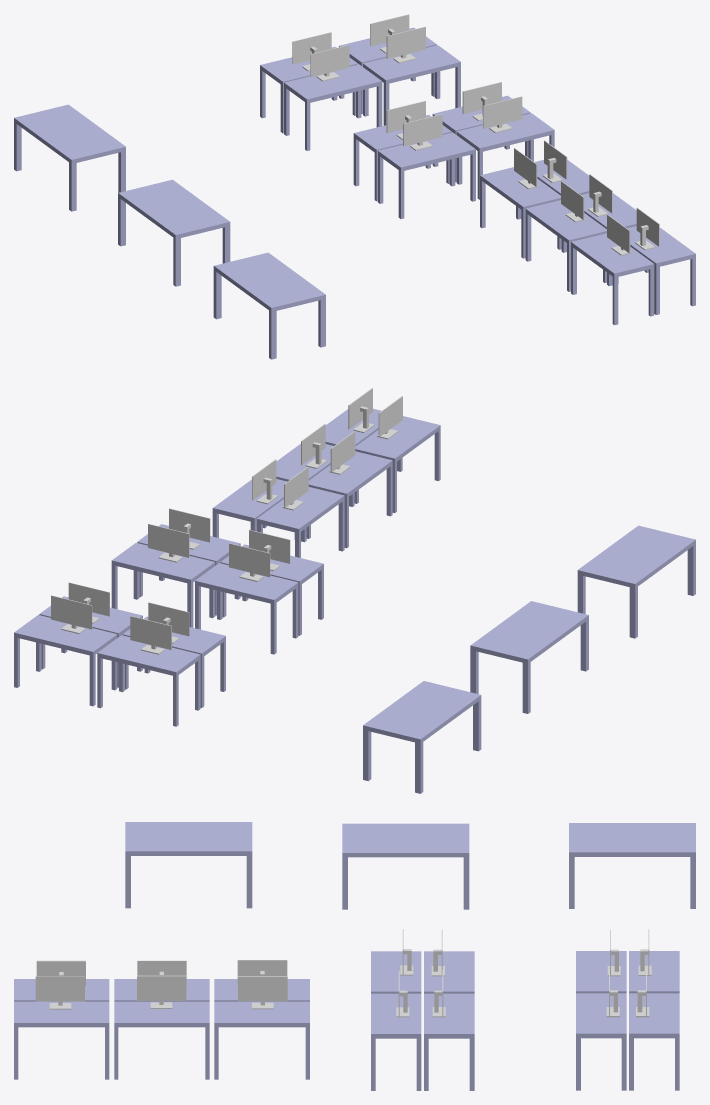
File: greybox_tables.fbx
The picture shows the model from 3 angles, top to bottom: view 1: azimuth 30°, elevation 25°; view 2: azimuth 150°, elevation 25°; view 3: azimuth 270°, elevation 25°; orthographic projection. The views are drawn at different scales.
Parts seen in each view (by area): view 1: OfficeTables, OfficeTables.002, OfficeTables.001, MeetingTable.002, MeetingTable.001, MeetingTable, Monitor.010, Monitor.013, Monitor.011, Monitor.012, Monitor.007, Monitor.008 (+8 smaller); view 2: OfficeTables, OfficeTables.002, OfficeTables.001, MeetingTable, MeetingTable.001, MeetingTable.002, Monitor.006, Monitor.007, Monitor.009, Monitor.008, Monitor.013, Monitor.012 (+8 smaller); view 3: OfficeTables, OfficeTables.001, OfficeTables.002, MeetingTable.001, MeetingTable.002, MeetingTable, Monitor.003, Monitor.005, Monitor.004, Monitor, Monitor.002, Monitor.001.
Part boxes in pixels (x1,y1,x2,y2): OfficeTables: [480, 160, 695, 325]; OfficeTables.002: [260, 27, 460, 150]; OfficeTables.001: [353, 95, 554, 218]; MeetingTable.002: [213, 252, 325, 359]; MeetingTable.001: [118, 179, 230, 286]; MeetingTable: [14, 104, 125, 211]; Monitor.010: [310, 45, 349, 81]; Monitor.013: [483, 96, 522, 133]; Monitor.011: [386, 26, 425, 63]; Monitor.012: [403, 114, 442, 150]; Monitor.007: [462, 82, 501, 121]; Monitor.008: [292, 32, 331, 71]; OfficeTables: [212, 408, 440, 557]; OfficeTables.002: [14, 596, 225, 726]; OfficeTables.001: [111, 524, 323, 654]; MeetingTable: [363, 681, 481, 793]; MeetingTable.001: [470, 601, 588, 713]; MeetingTable.002: [577, 525, 695, 638]; Monitor.006: [229, 543, 270, 581]; Monitor.007: [148, 524, 189, 562]; Monitor.009: [51, 595, 92, 633]; Monitor.008: [130, 616, 171, 654]; Monitor.013: [169, 508, 210, 549]; Monitor.012: [249, 530, 290, 571]; OfficeTables: [14, 979, 309, 1079]; OfficeTables.001: [371, 951, 474, 1090]; OfficeTables.002: [576, 951, 679, 1090]; MeetingTable.001: [342, 823, 469, 909]; MeetingTable.002: [125, 822, 252, 908]; MeetingTable: [569, 823, 695, 908]; Monitor.003: [238, 976, 287, 1009]; Monitor.005: [35, 976, 84, 1009]; Monitor.004: [137, 975, 186, 1008]; Monitor: [36, 960, 85, 985]; Monitor.002: [237, 960, 287, 984]; Monitor.001: [137, 960, 186, 985].
Bounding box in the file's own units: 1538 × 221 × 1132.
